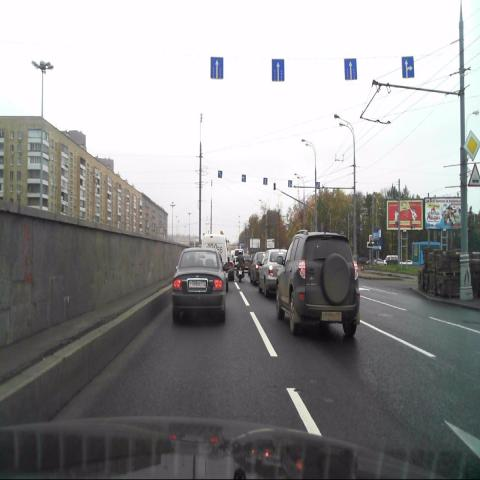1_5: (467, 163, 480, 188)
2_1: (464, 132, 480, 162)
5_15_2: (210, 56, 223, 78), (344, 59, 357, 80), (272, 59, 284, 80), (402, 57, 414, 78)
